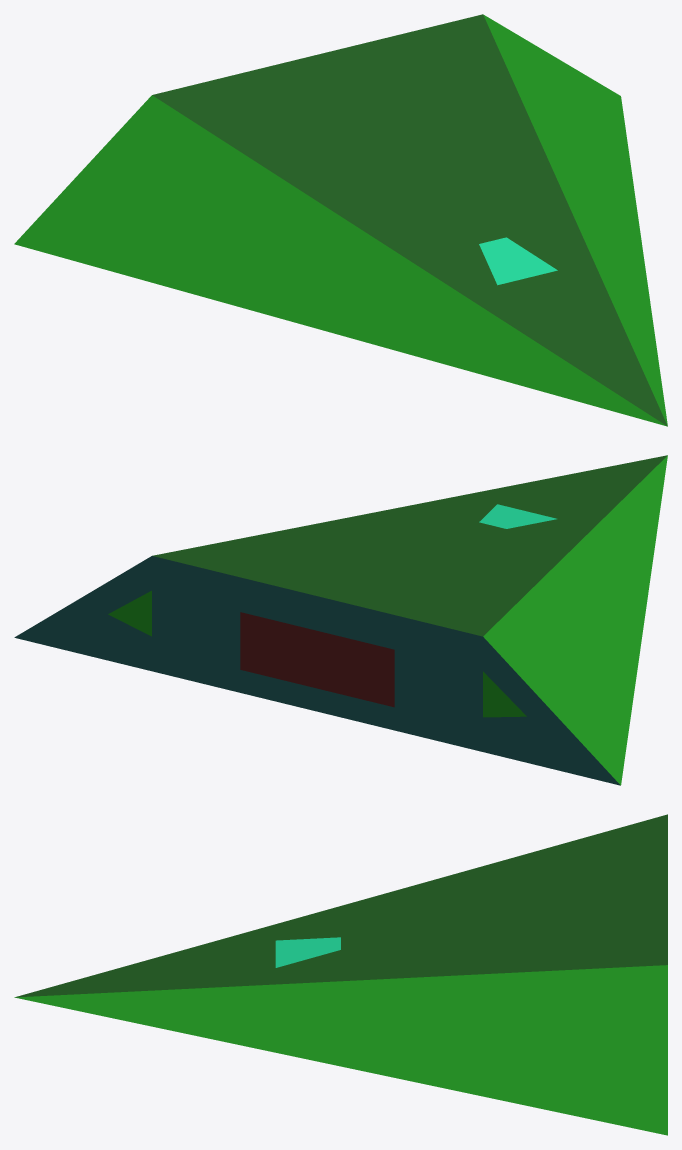
File: arc_mamba.glb
3 renders of one model, top to bottom at view 1: azimuth 30°, elevation 25°; view 2: azimuth 150°, elevation 25°; view 3: azimuth 270°, elevation 25°, orthographic. The views are drawn at different scales.
Parts seen in each view (by area): view 1: griff_arcelite_mamba; view 2: griff_arcelite_mamba, griff_arcelite_mamba.002, griff_arcelite_mamba.001, griff_arcelite_mamba.003; view 3: griff_arcelite_mamba.
Part boxes in pixels (box(x1,y1,x2,y2)): griff_arcelite_mamba: box(14, 14, 667, 426); griff_arcelite_mamba: box(14, 455, 667, 785); griff_arcelite_mamba.002: box(240, 612, 394, 707); griff_arcelite_mamba.001: box(108, 590, 151, 636); griff_arcelite_mamba.003: box(483, 671, 526, 717); griff_arcelite_mamba: box(14, 814, 667, 1135).
Bounding box in the file's own units: 0.6684 × 0.1215 × 0.6684.
Materials: 1 (1 with a texture image).
